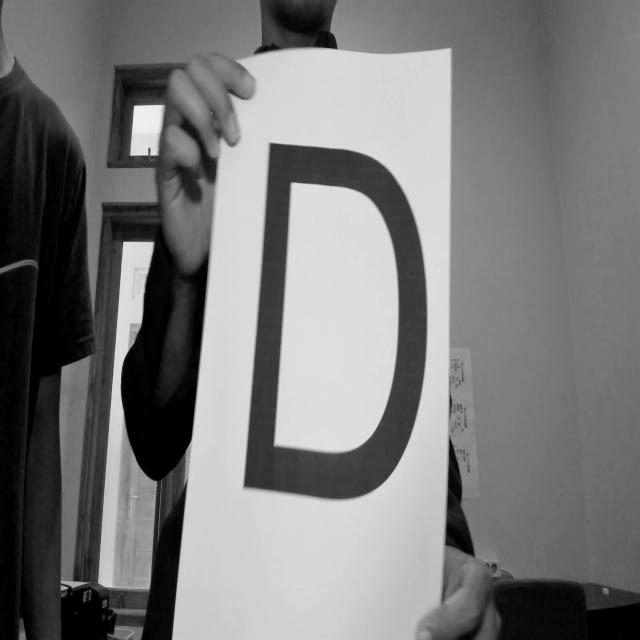d: (240, 127, 434, 518)
